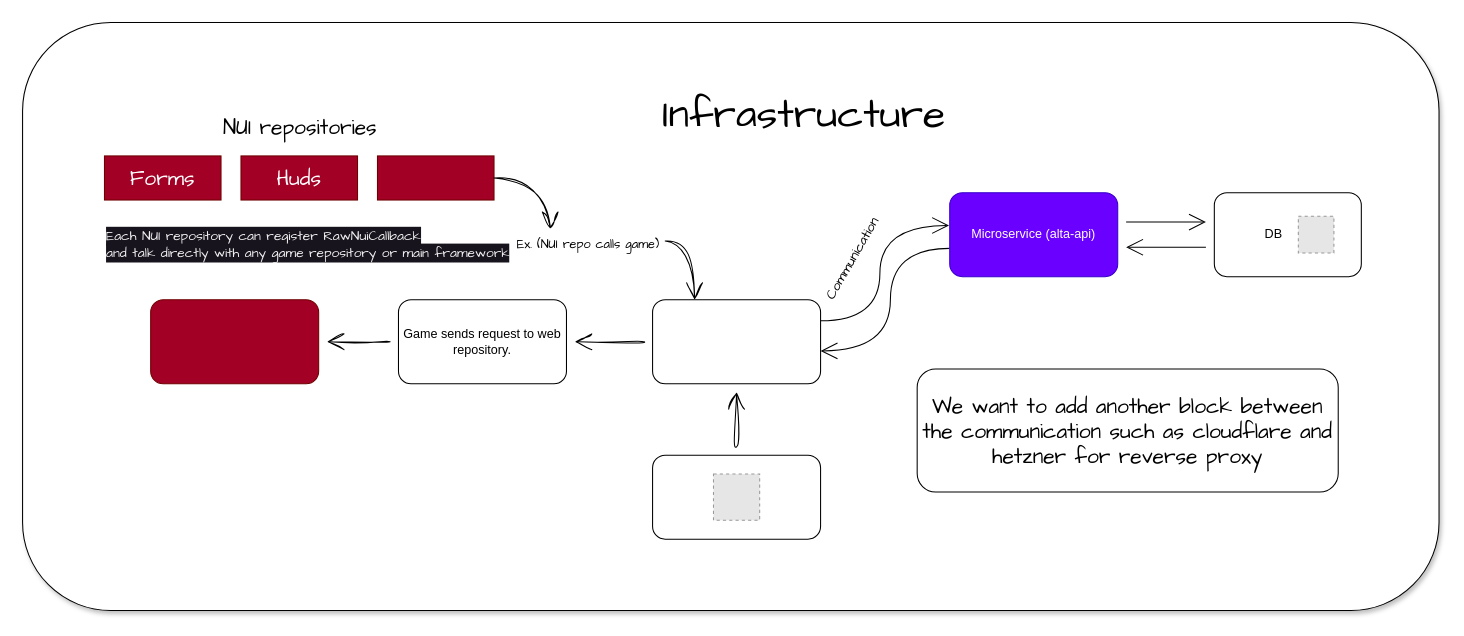
Some shapes in this 1464 by 636 pixel diagram are drawn without their labels. Grey dashed boxes stand in for pictures. Here are the shapes that lost their labels. From the top down, the centre of each, then its label:
the point at 435,177: Screens
the point at 234,341: Web communicates forward to NUI repositories
the point at 736,341: Game (alta-core-front) (alta-core-back)
